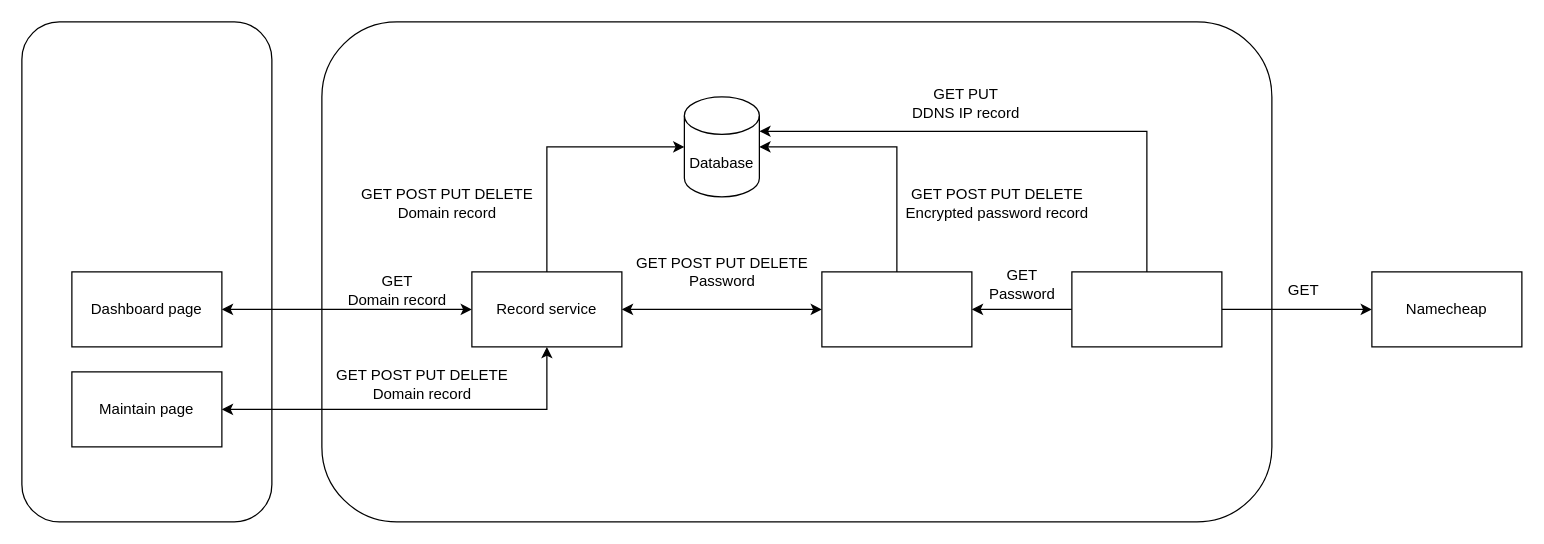
This 1544x544 diagram has some shape labels left out. Here are the shapes that lost their labels. From the top down, the box of each, then its label:
(821, 271, 972, 347): Password service
(1071, 271, 1222, 347): DDNS IP service
